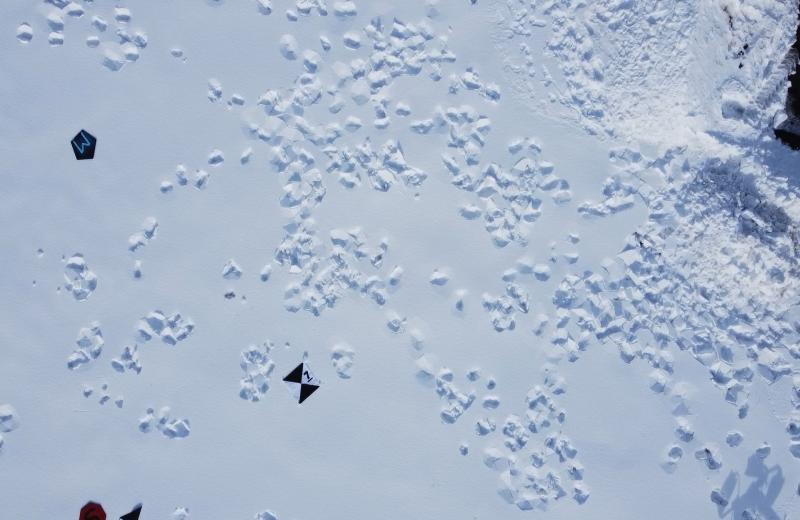Octagon: (73, 496, 110, 520)
Pentagon: (66, 125, 100, 163)
